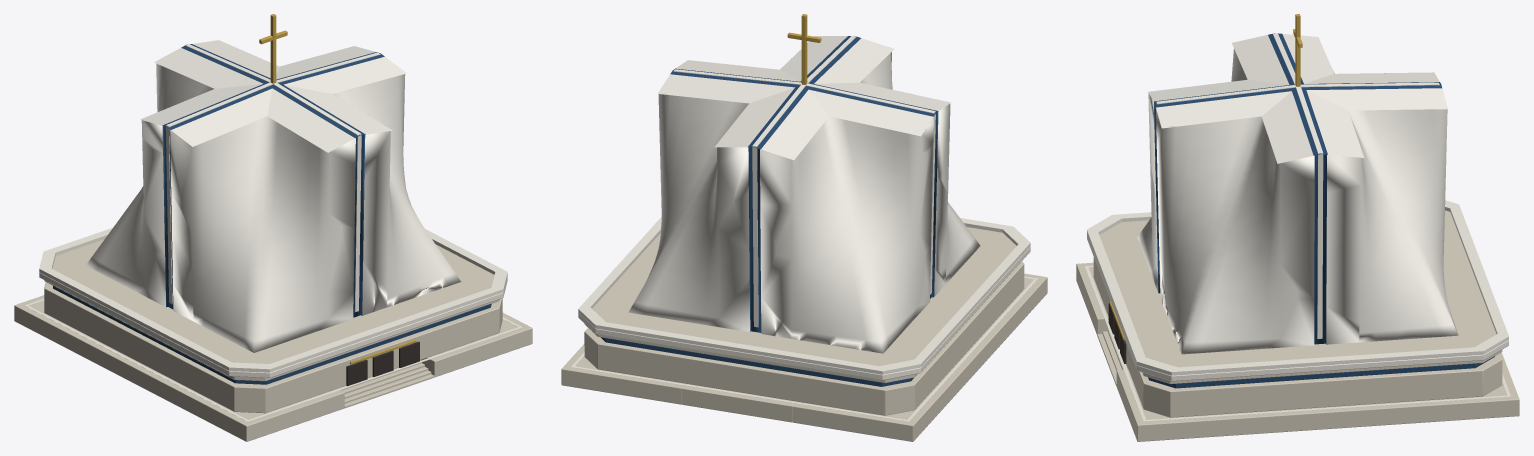
File: st-marys-cathedral.glb
3 views of the same model, side by side, from view 1: azimuth 30°, elevation 25°; view 2: azimuth 150°, elevation 25°; view 3: azimuth 270°, elevation 25° (orthographic). The views are drawn at different scales.
Parts seen in each view (by area): view 1: grp_Toy_glass_Toy_white, grp_Toy_stone, grp_Toy_trim, grp_Toy_white_Glow, base_glazing, grp_Toy_ink, grp_Toy_gold; view 2: grp_Toy_glass_Toy_white, grp_Toy_stone, grp_Toy_trim, grp_Toy_white_Glow, base_glazing, grp_Toy_gold; view 3: grp_Toy_glass_Toy_white, grp_Toy_stone, grp_Toy_trim, grp_Toy_white_Glow, base_glazing, grp_Toy_gold, grp_Toy_ink.
Boxes of the visible parts, x1,y1,x2,y2 form: grp_Toy_glass_Toy_white: (85,40,460,352); grp_Toy_stone: (14,239,532,441); grp_Toy_trim: (24,228,522,421); grp_Toy_white_Glow: (165,44,380,312); base_glazing: (53,286,491,384); grp_Toy_ink: (346,341,419,386); grp_Toy_gold: (259,14,287,83); grp_Toy_glass_Toy_white: (628,36,980,353); grp_Toy_stone: (561,227,1047,441); grp_Toy_trim: (571,217,1037,421); grp_Toy_white_Glow: (673,36,935,327); base_glazing: (601,337,913,386); grp_Toy_gold: (787,14,821,84); grp_Toy_glass_Toy_white: (1137,33,1458,354); grp_Toy_stone: (1076,210,1519,441); grp_Toy_trim: (1085,200,1510,421); grp_Toy_white_Glow: (1155,33,1439,338); base_glazing: (1148,356,1494,388); grp_Toy_gold: (1293,14,1302,86); grp_Toy_ink: (1108,303,1126,363).
Size of the model in its own units: 94.82 by 78.7 by 94.82.
